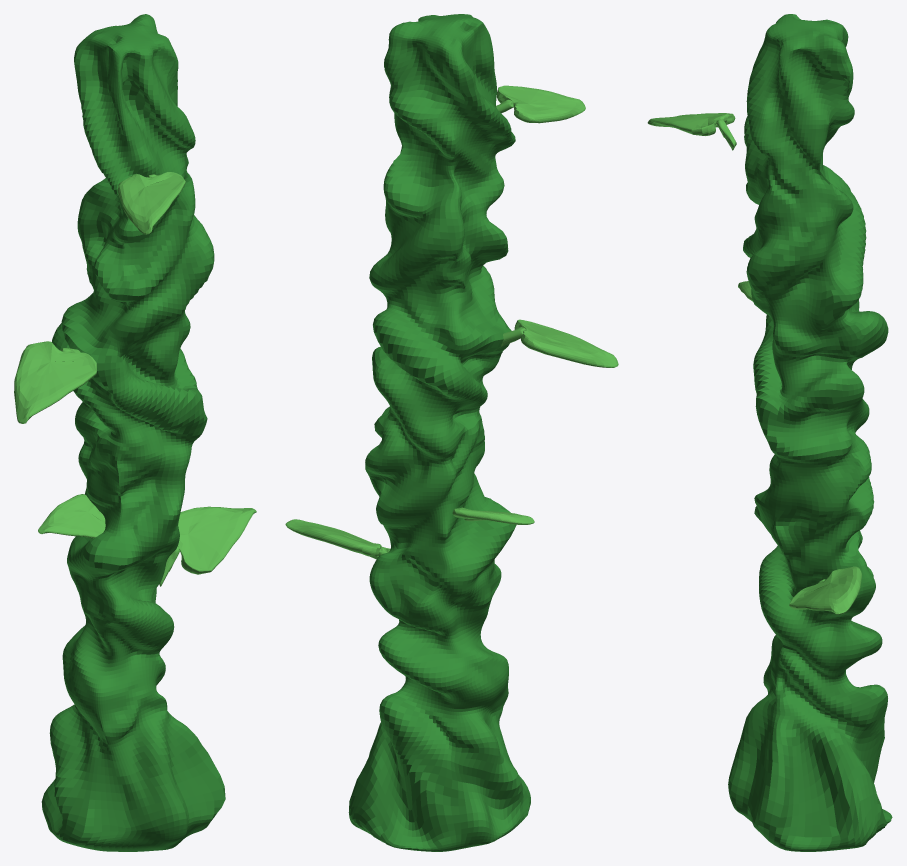
3 views of the same model, side by side, from view 1: azimuth 30°, elevation 25°; view 2: azimuth 150°, elevation 25°; view 3: azimuth 270°, elevation 25° (orthographic).
Parts seen in each view (by area): view 1: 구체.003; view 2: 구체.003; view 3: 구체.003.
Boxes of the visible parts, x1=… form: 구체.003: x1=14, y1=14, x2=256, y2=851; 구체.003: x1=285, y1=14, x2=618, y2=851; 구체.003: x1=647, y1=14, x2=892, y2=851.
Size of the model in its own units: 824 by 2242 by 621.
